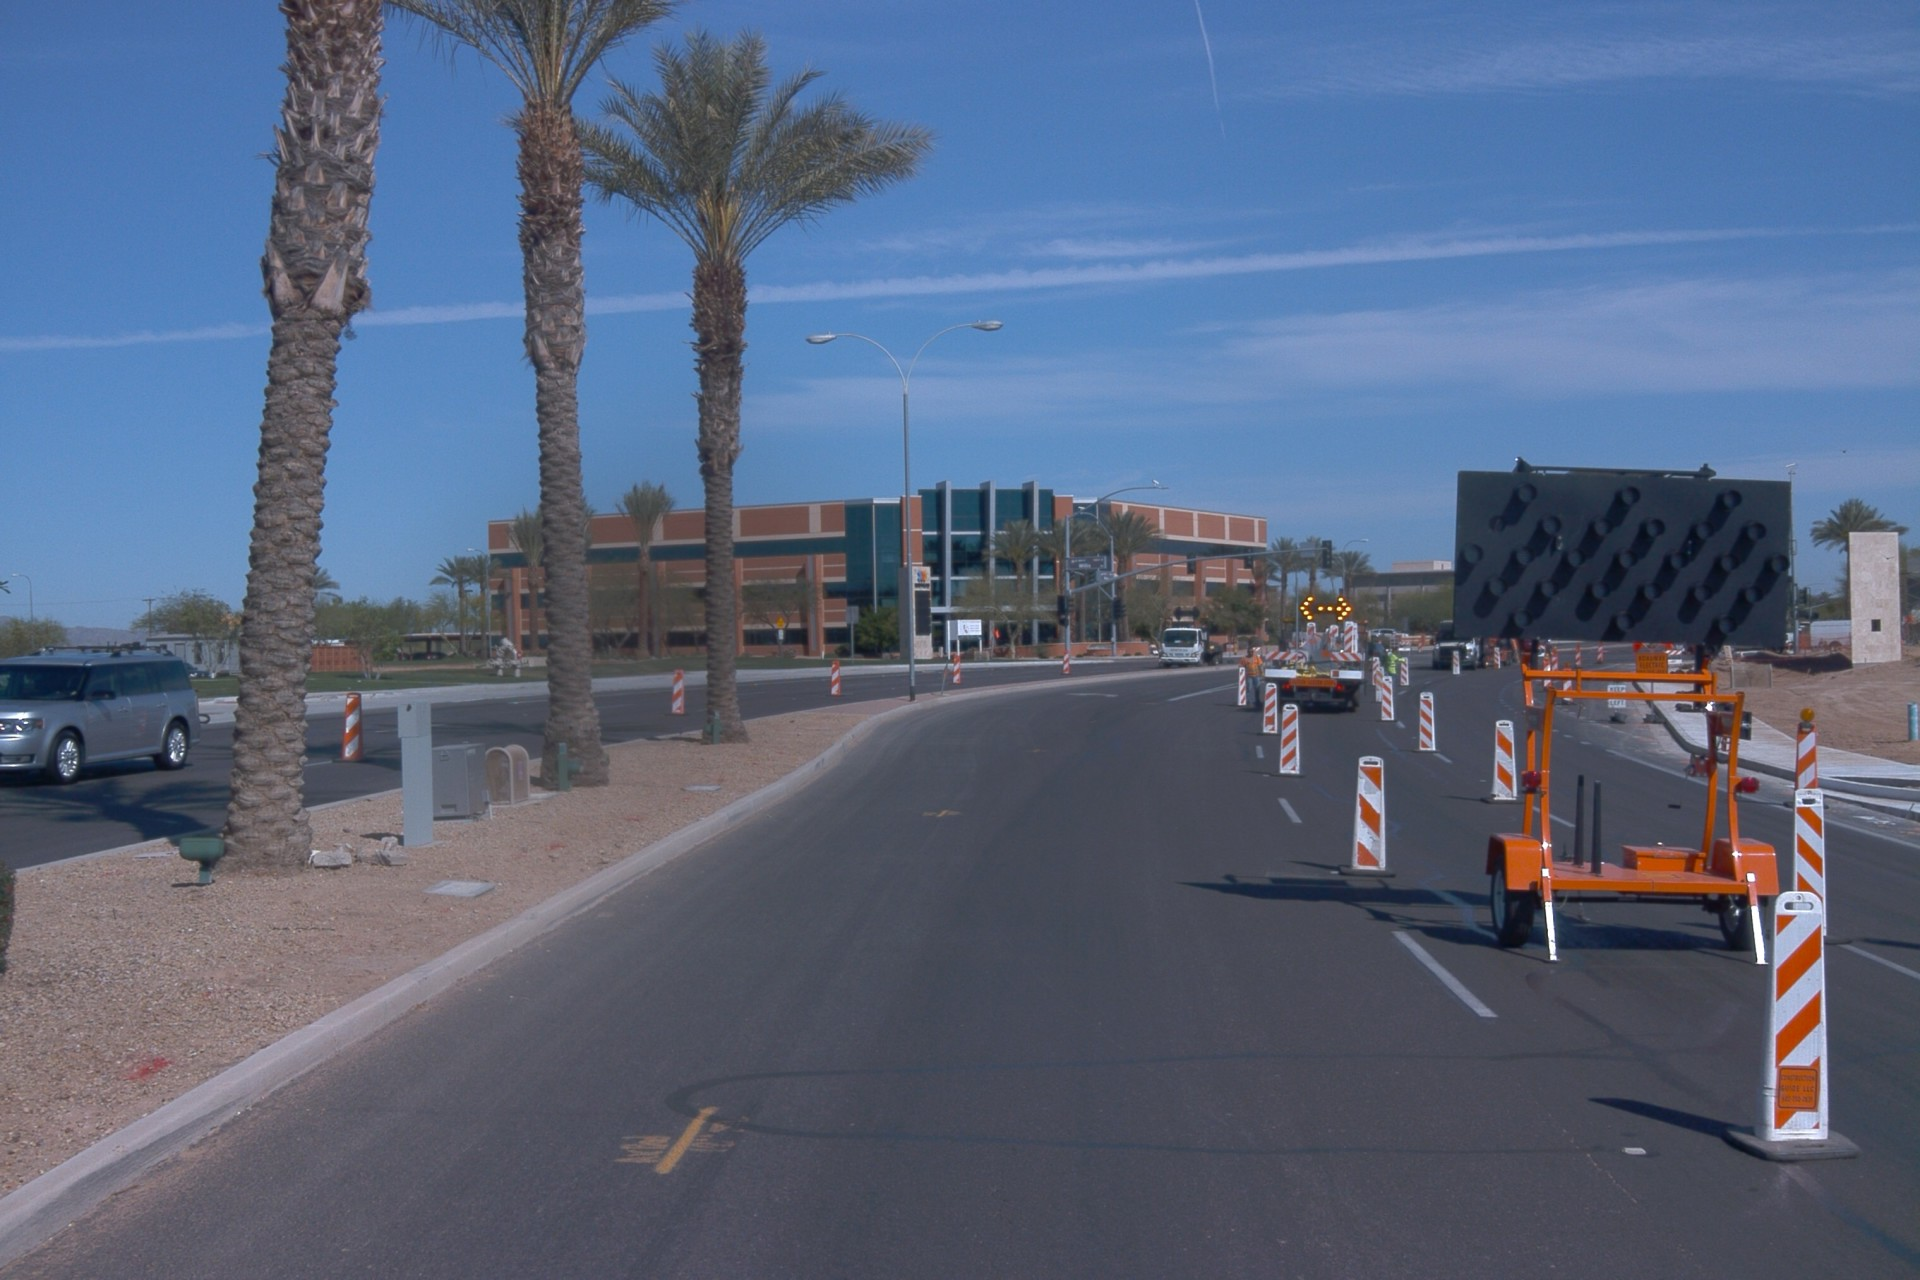TYPE_PEDESTRIAN: (1235, 646, 1267, 710), (1386, 646, 1407, 690)
TYPE_VEHICLE: (1440, 459, 1821, 975), (0, 649, 214, 786), (1254, 594, 1371, 716), (1429, 615, 1521, 674), (1155, 617, 1241, 669), (1738, 627, 1803, 659), (183, 662, 218, 686), (1371, 626, 1409, 642), (1368, 640, 1389, 667)
